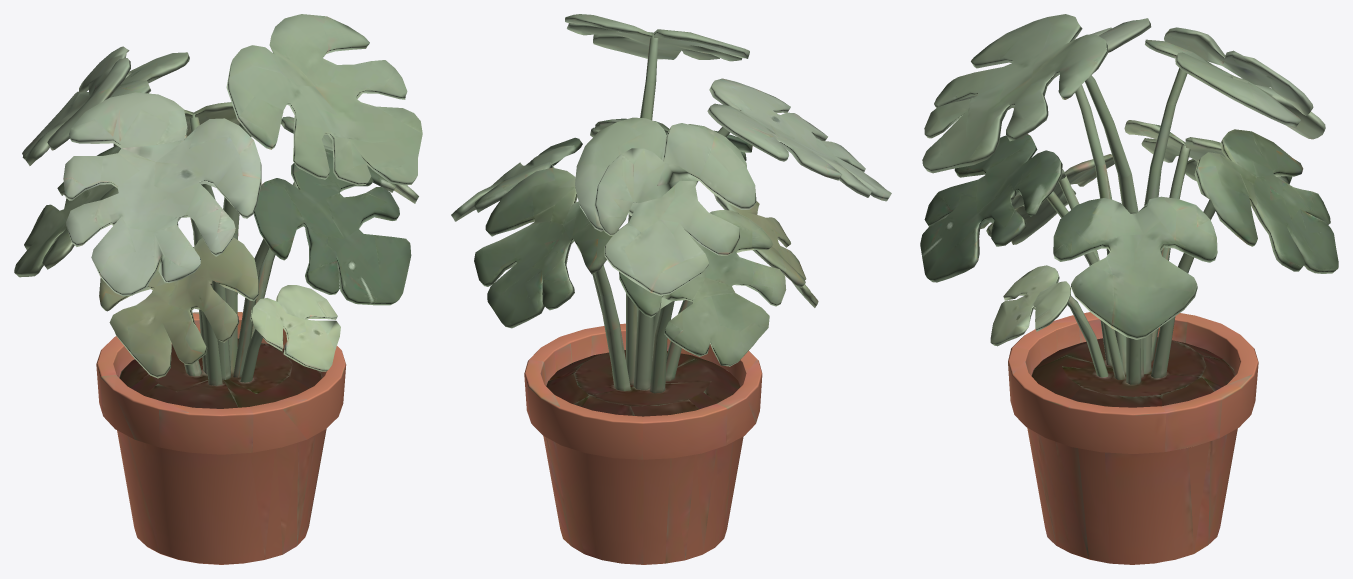
Rendered from monstera.glb.
3 views of the same model, side by side, from view 1: azimuth 30°, elevation 25°; view 2: azimuth 150°, elevation 25°; view 3: azimuth 270°, elevation 25° (orthographic). The views are drawn at different scales.
Bounding box in the file's own units: 0.8015 × 1 × 0.7402.
1 material, 1 textured.
